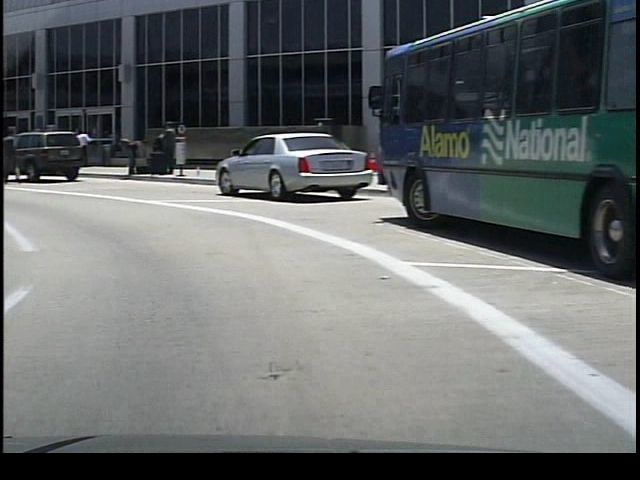person: (115, 128, 144, 182), (152, 121, 173, 176), (71, 125, 91, 167)
